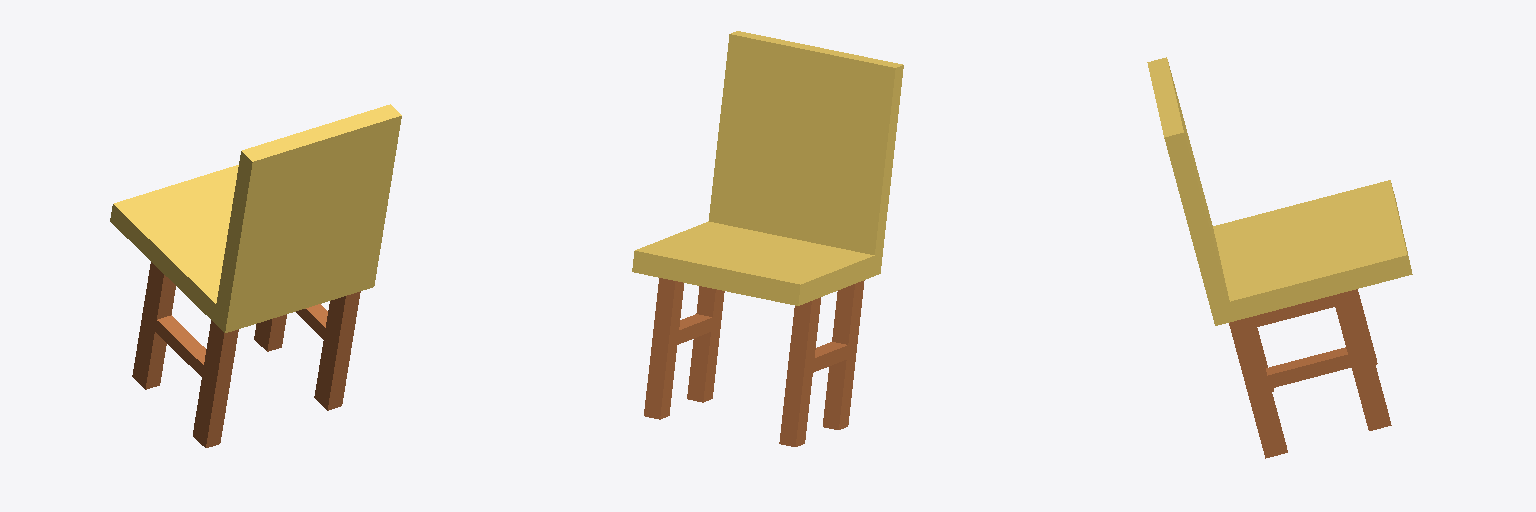
File: chair3.obj
3 views of the same model, side by side, from view 1: azimuth 30°, elevation 25°; view 2: azimuth 150°, elevation 25°; view 3: azimuth 270°, elevation 25° (orthographic).
Visible parts, largest first — view 1: Cube.004; view 2: Cube.004; view 3: Cube.004.
Boxes of the visible parts, x1,y1,x2,y2 form: Cube.004: [110, 104, 401, 447]; Cube.004: [632, 31, 903, 446]; Cube.004: [1147, 57, 1412, 458].
Bounding box in the file's own units: 0.7809 × 1.4 × 1.02.